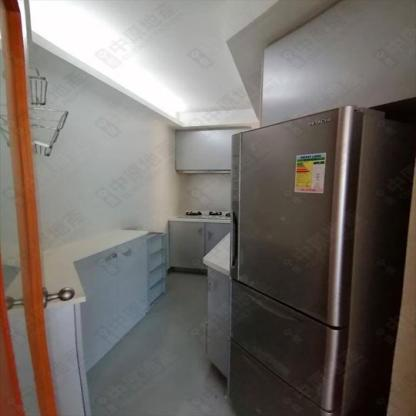Cupboard: (71, 233, 149, 369), (171, 221, 230, 270)
Exhaust Hood: (177, 170, 231, 174)
Fridge: (226, 103, 366, 415)
Stove: (172, 210, 231, 220)
